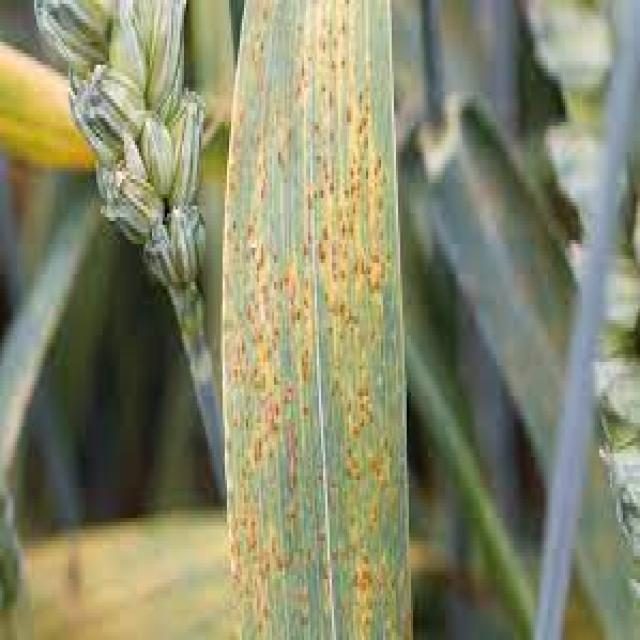leaf rust: (218, 4, 404, 640)
